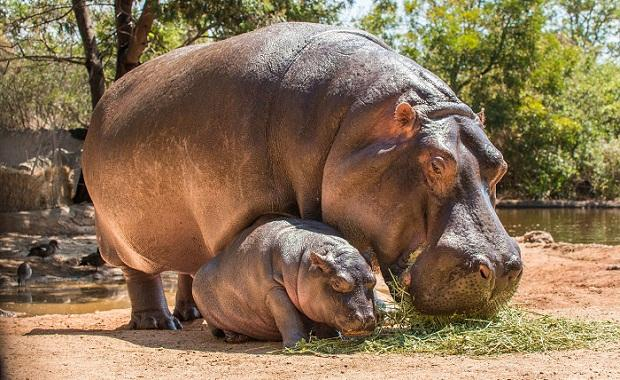Hippopotamus: (79, 19, 525, 331), (190, 220, 381, 349)
